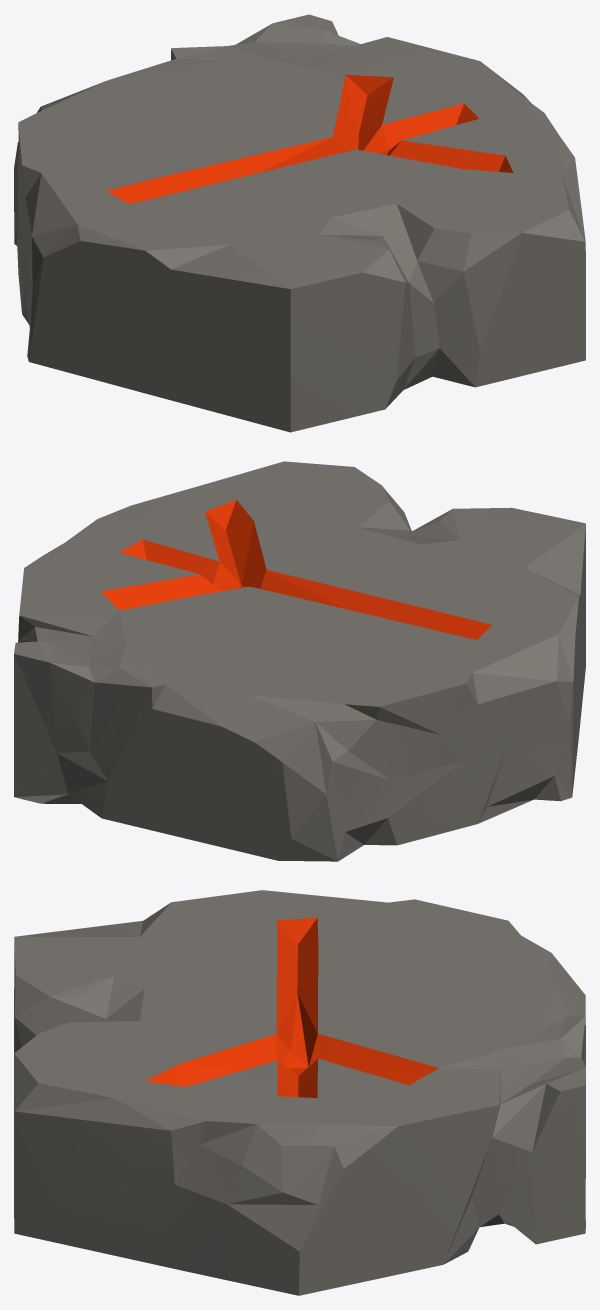
The model's file is SM_Env_Rounded_B_02.glb.
3 views of the same model, one above another, from view 1: azimuth 30°, elevation 25°; view 2: azimuth 150°, elevation 25°; view 3: azimuth 270°, elevation 25° (orthographic). The views are drawn at different scales.
Parts seen in each view (by area): view 1: SM_Env_Rounded_B_02; view 2: SM_Env_Rounded_B_02; view 3: SM_Env_Rounded_B_02.
Part boxes in pixels (box(x1,y1,x2,y2)): SM_Env_Rounded_B_02: box(14, 14, 585, 432); SM_Env_Rounded_B_02: box(14, 461, 585, 861); SM_Env_Rounded_B_02: box(14, 890, 585, 1295).
Size of the model in its own units: 2.73 by 0.687 by 2.41.
1 material, 1 textured.
